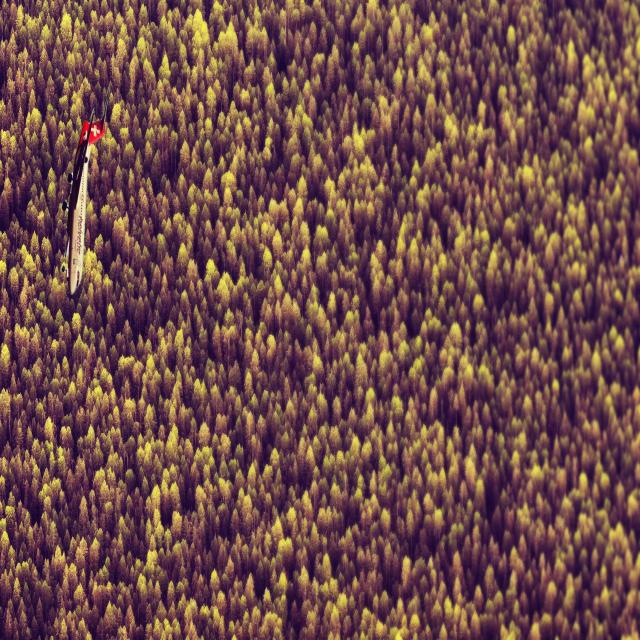airplane: (60, 81, 111, 296)
